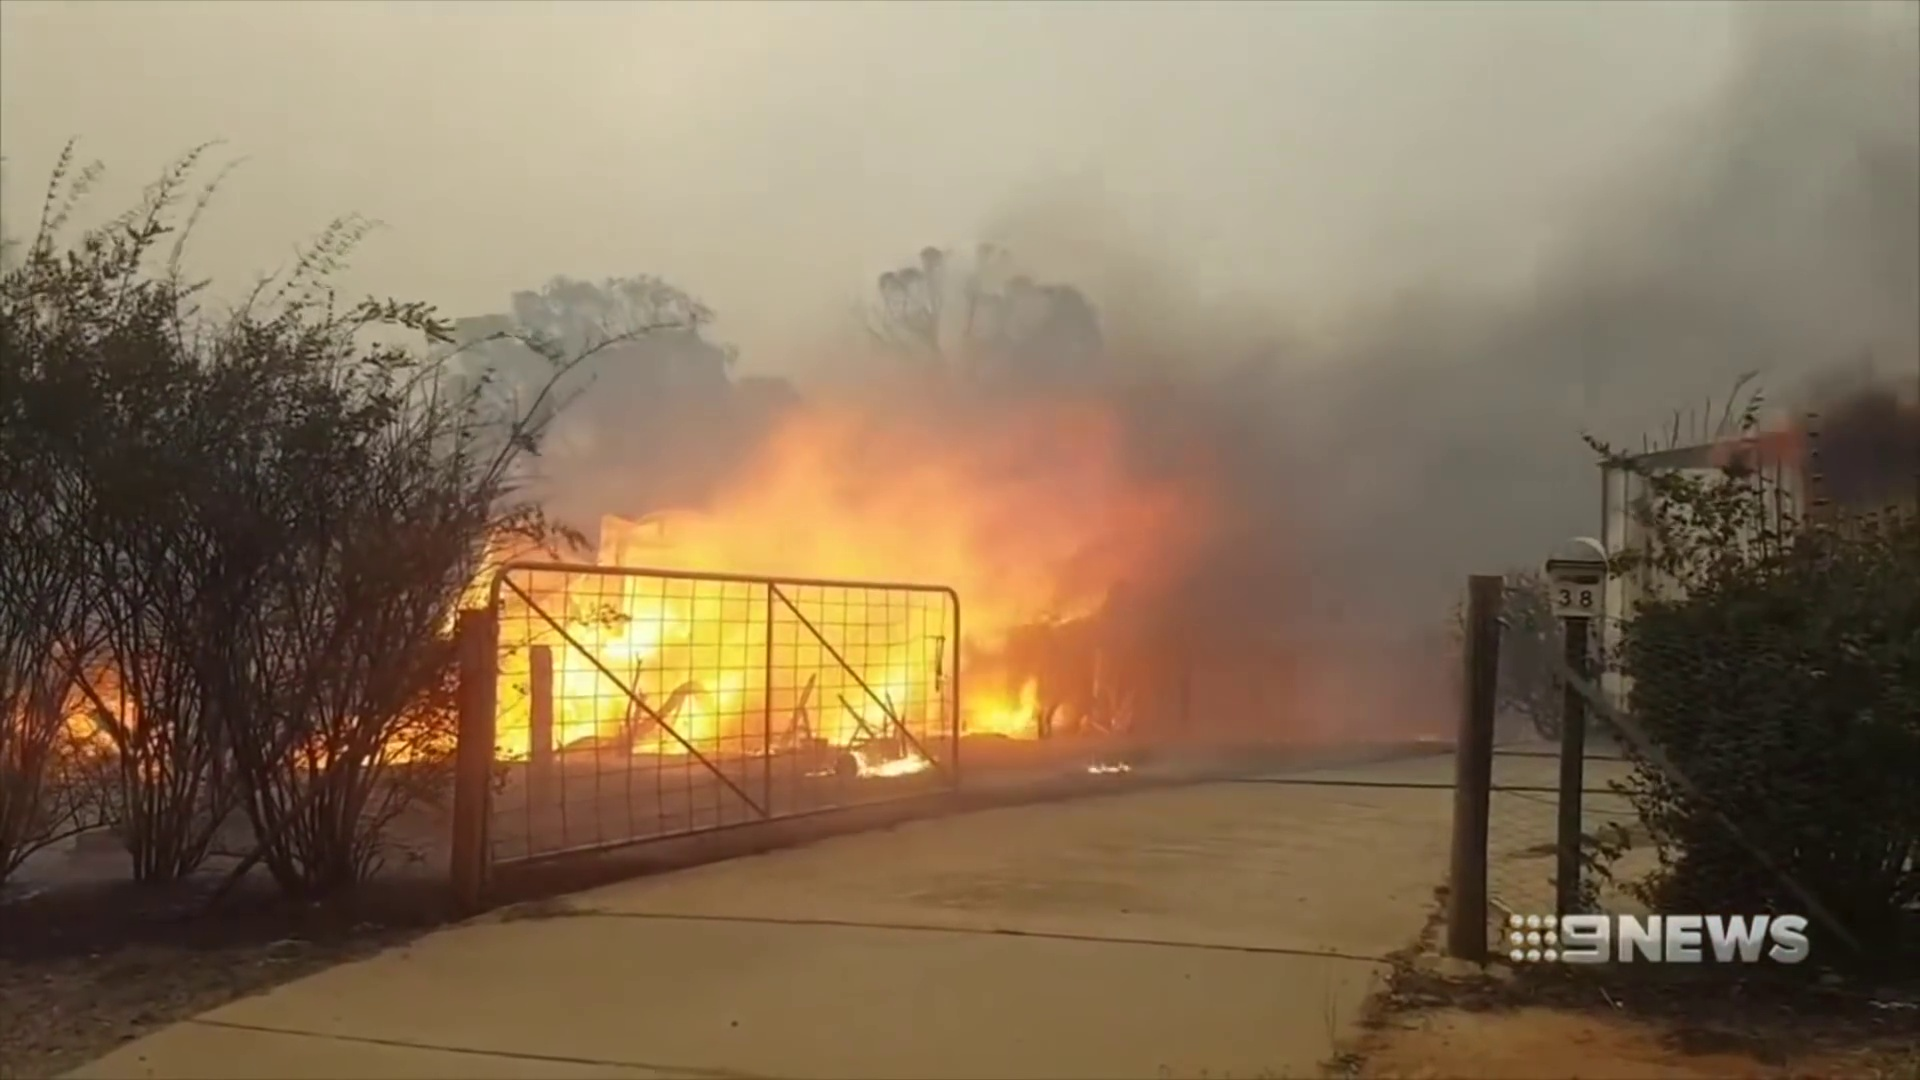fire: (563, 589, 687, 686), (73, 696, 123, 740), (869, 760, 924, 775)
